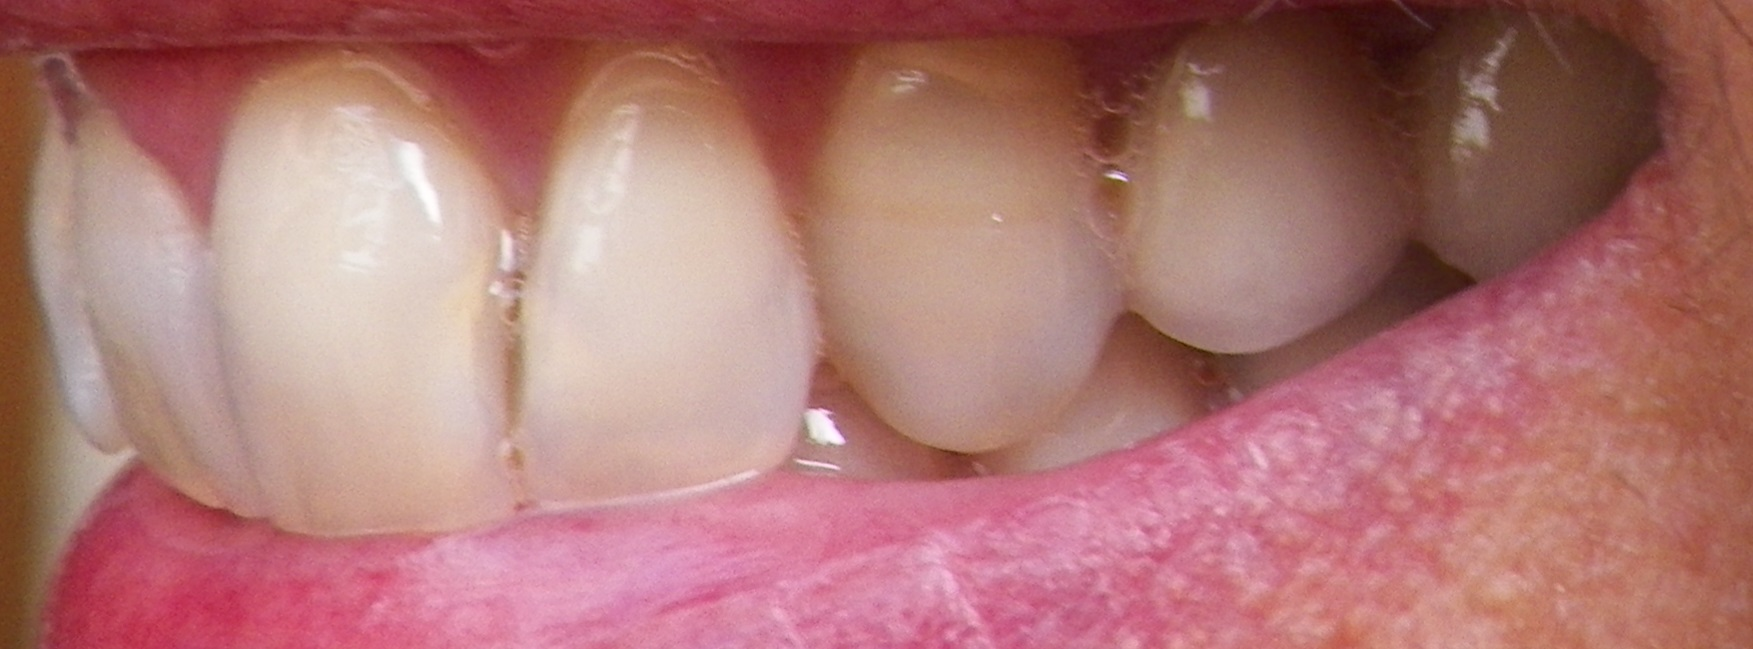boca: (17, 42, 1634, 527)
